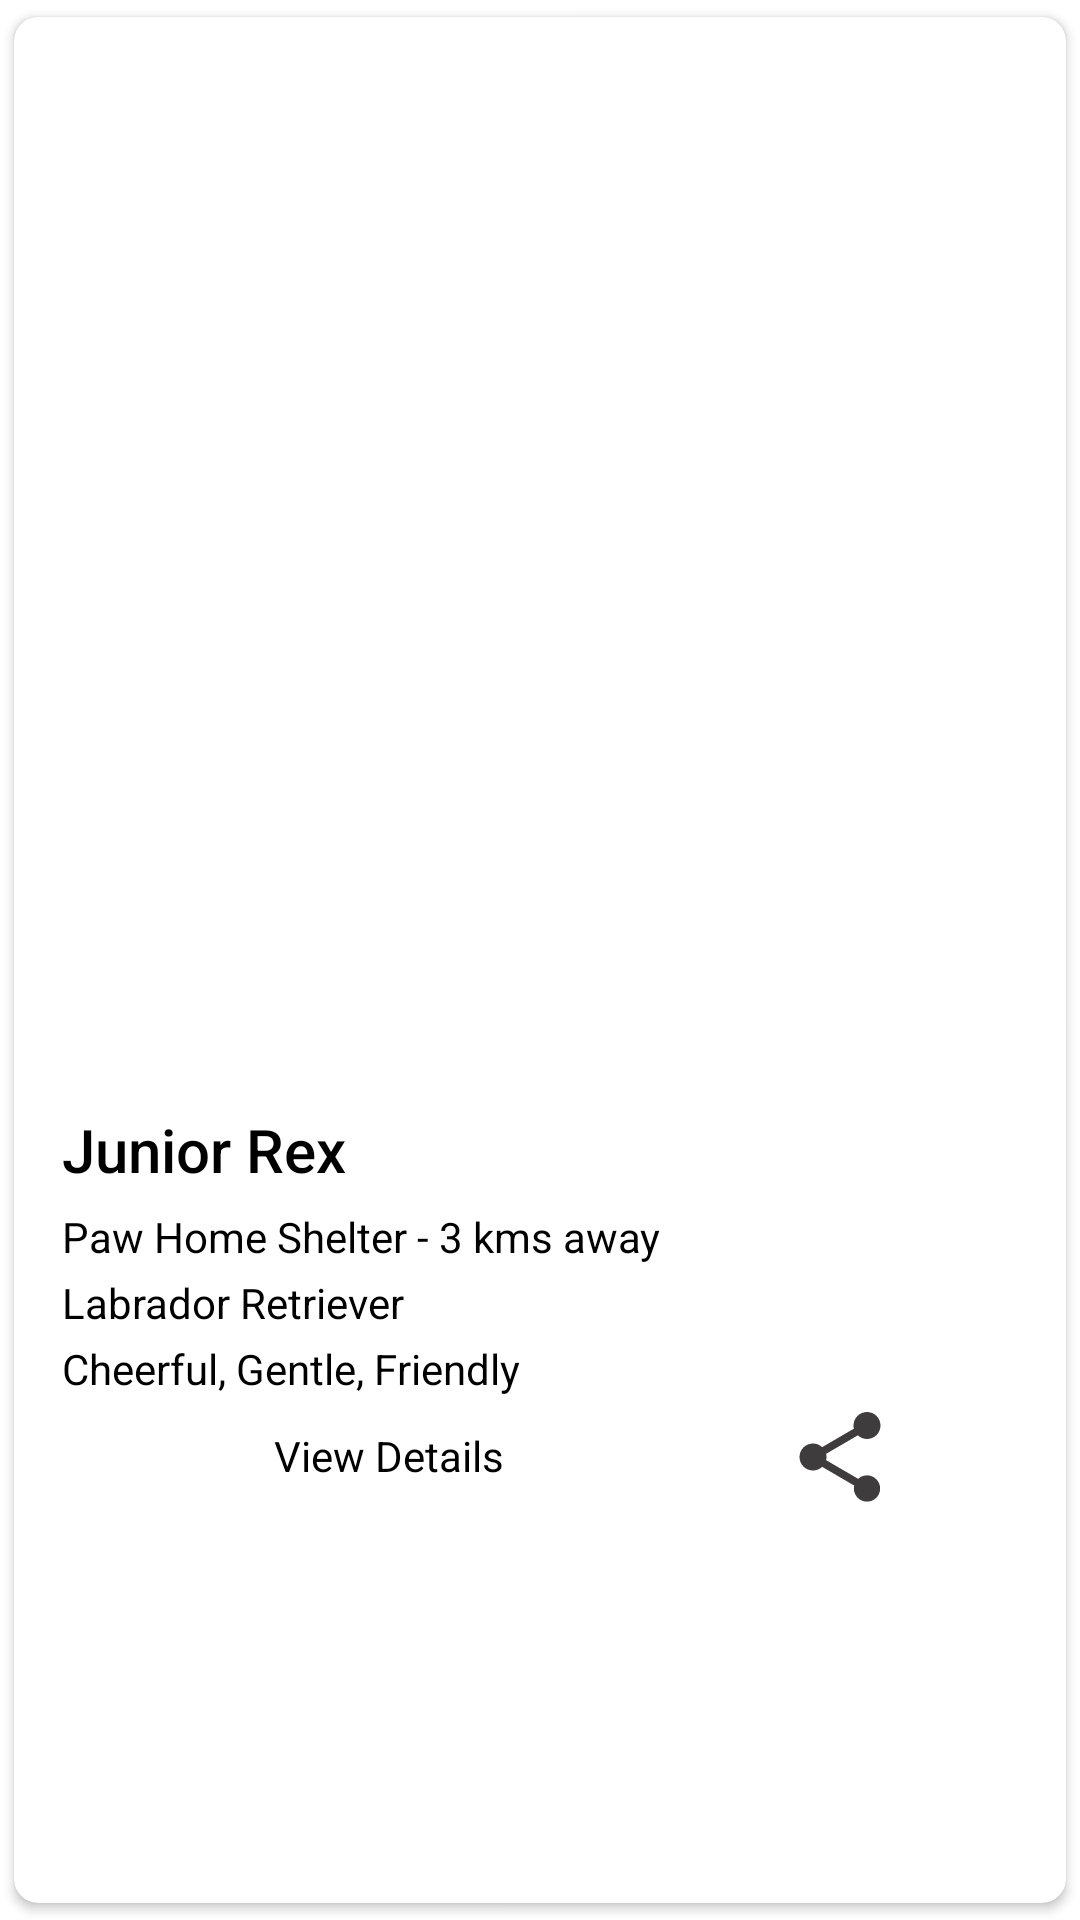

Icon bounding boxes for this 1080px×1920px phone screenshot, format (x1=x1, y1=y1, x2=x2, y2=y2):
share: (x1=799, y1=1412, x2=881, y2=1502)
